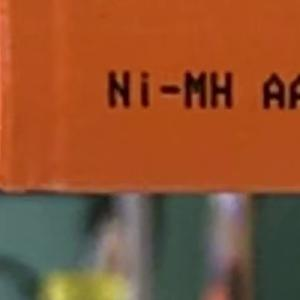NI-MH: (98, 62, 242, 117)
